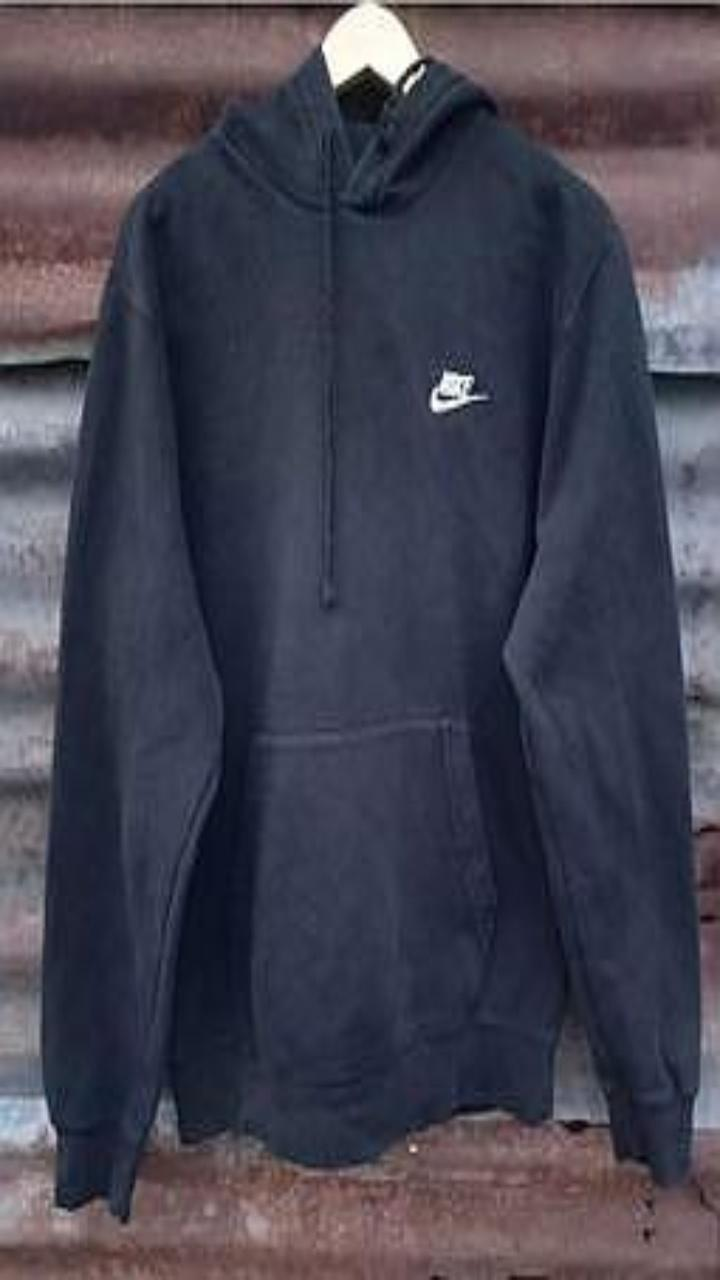Hoodie: (41, 45, 699, 1220)
